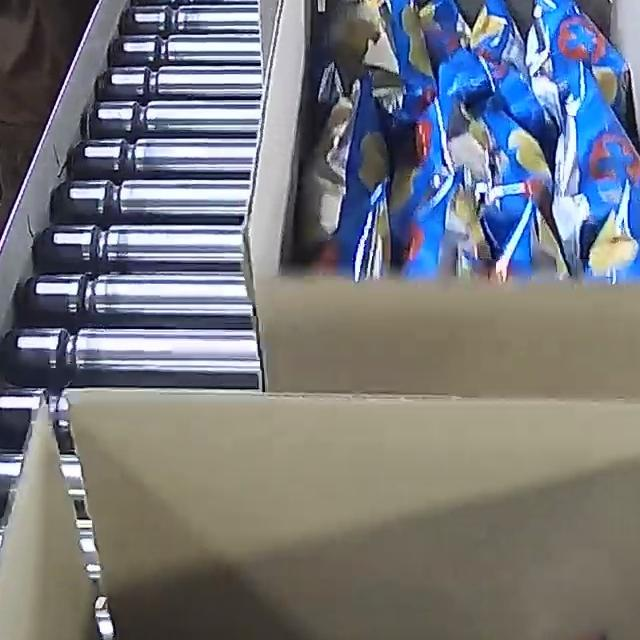paprika: (305, 0, 640, 284)
